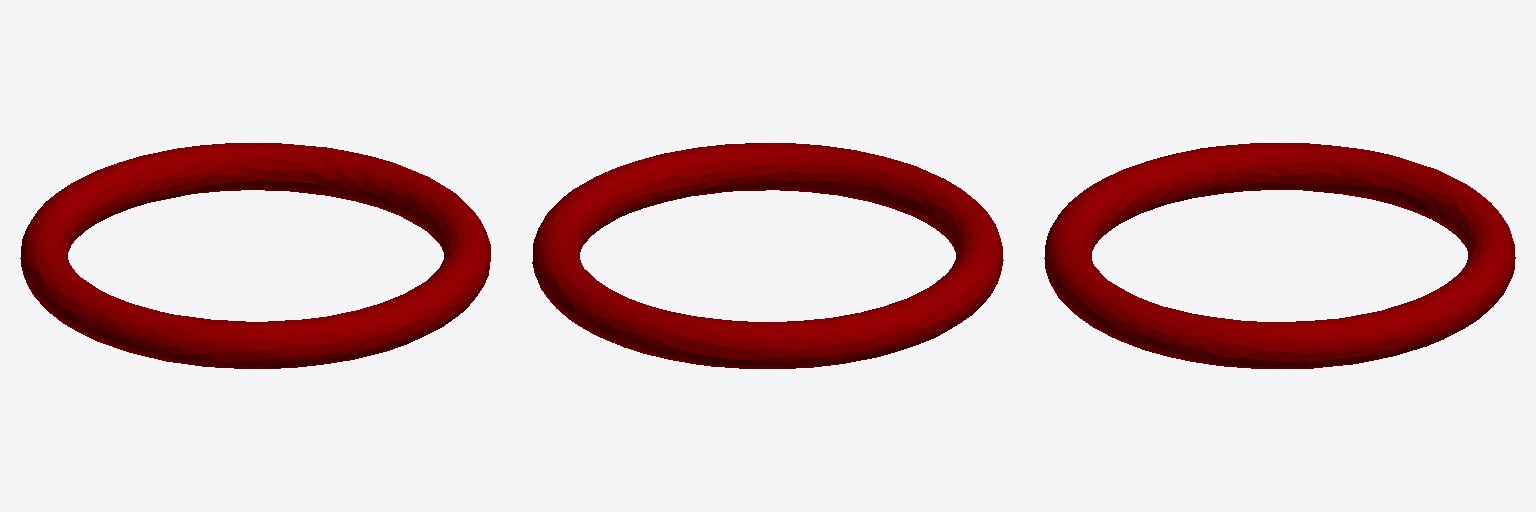
The robot description file, URDF, robot "physics 43":
<?xml version="1.0"?>
<robot  name="physics 43">
    <link name="Third">
        <visual>
            <origin rpy="0 0 0" xyz="0 0 0"/>
            <geometry>
            <mesh scale= "0.0125 0.0125 0.0125" filename="Ring.obj"/>
            </geometry>
            <material name="apple" >
            <color rgba="0.596078431372549 0.0 0.00784313725490196 1.0" />
            </material>
        </visual>

        <inertial>
            <origin rpy="0 0 0" xyz="0 0 0"/>
            <mass value=".05"/>
            <inertia ixx="0" ixy="0.0" ixz="0.0" iyy="0" iyz="0.0" izz="0"/>
        </inertial>
    </link>

</robot>  

--- What the picture shows (computed from the rendered views, not written in the file) ---
The picture shows the robot from 3 angles, left to right: view 1: azimuth 30°, elevation 25°; view 2: azimuth 150°, elevation 25°; view 3: azimuth 270°, elevation 25°; orthographic projection.
Model physics 43 with 1 links and 0 joints (none), rooted at Third, posed every joint at zero.
Visible links, largest first — view 1: Third; view 2: Third; view 3: Third.
Link boxes in pixels (x1,y1,x2,y2): Third: [20, 143, 490, 368]; Third: [532, 143, 1003, 368]; Third: [1044, 143, 1515, 368].
Size in the robot's own frame: 1.25 by 1.25 by 0.1259 metres.
Meshes: 1 distinct files referenced, 1 mesh visuals loaded (1 OBJ).